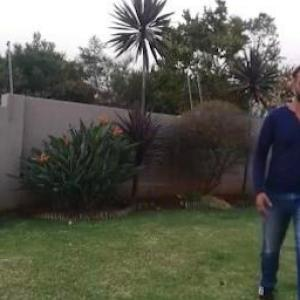follow: (267, 68, 299, 294)
